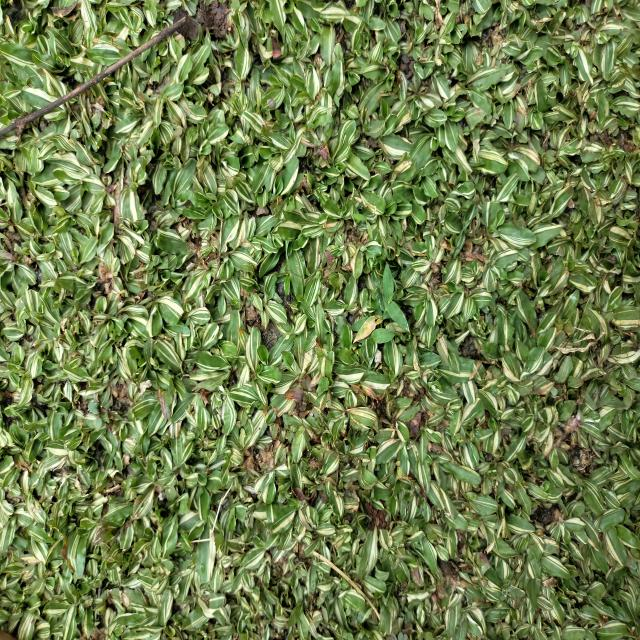rambat atas: (348, 259, 412, 345)
